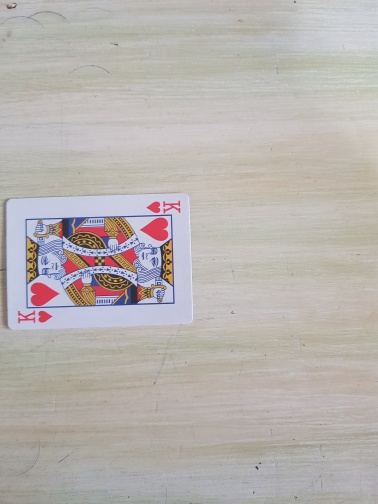king: (4, 192, 196, 330)
